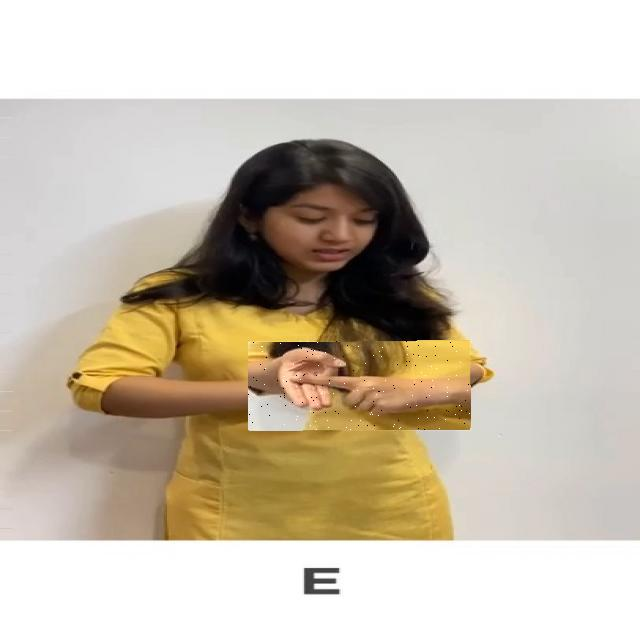E: (248, 341, 471, 431)
